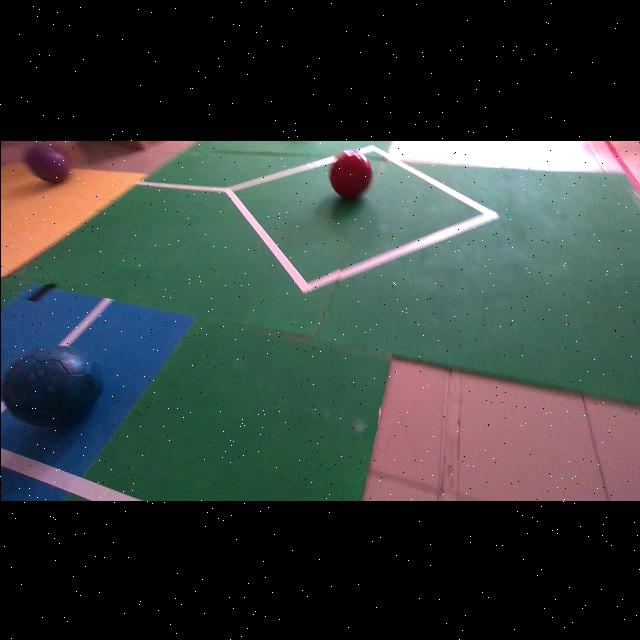B: (1, 344, 102, 425)
P: (24, 143, 68, 182)
R: (328, 150, 371, 197)
